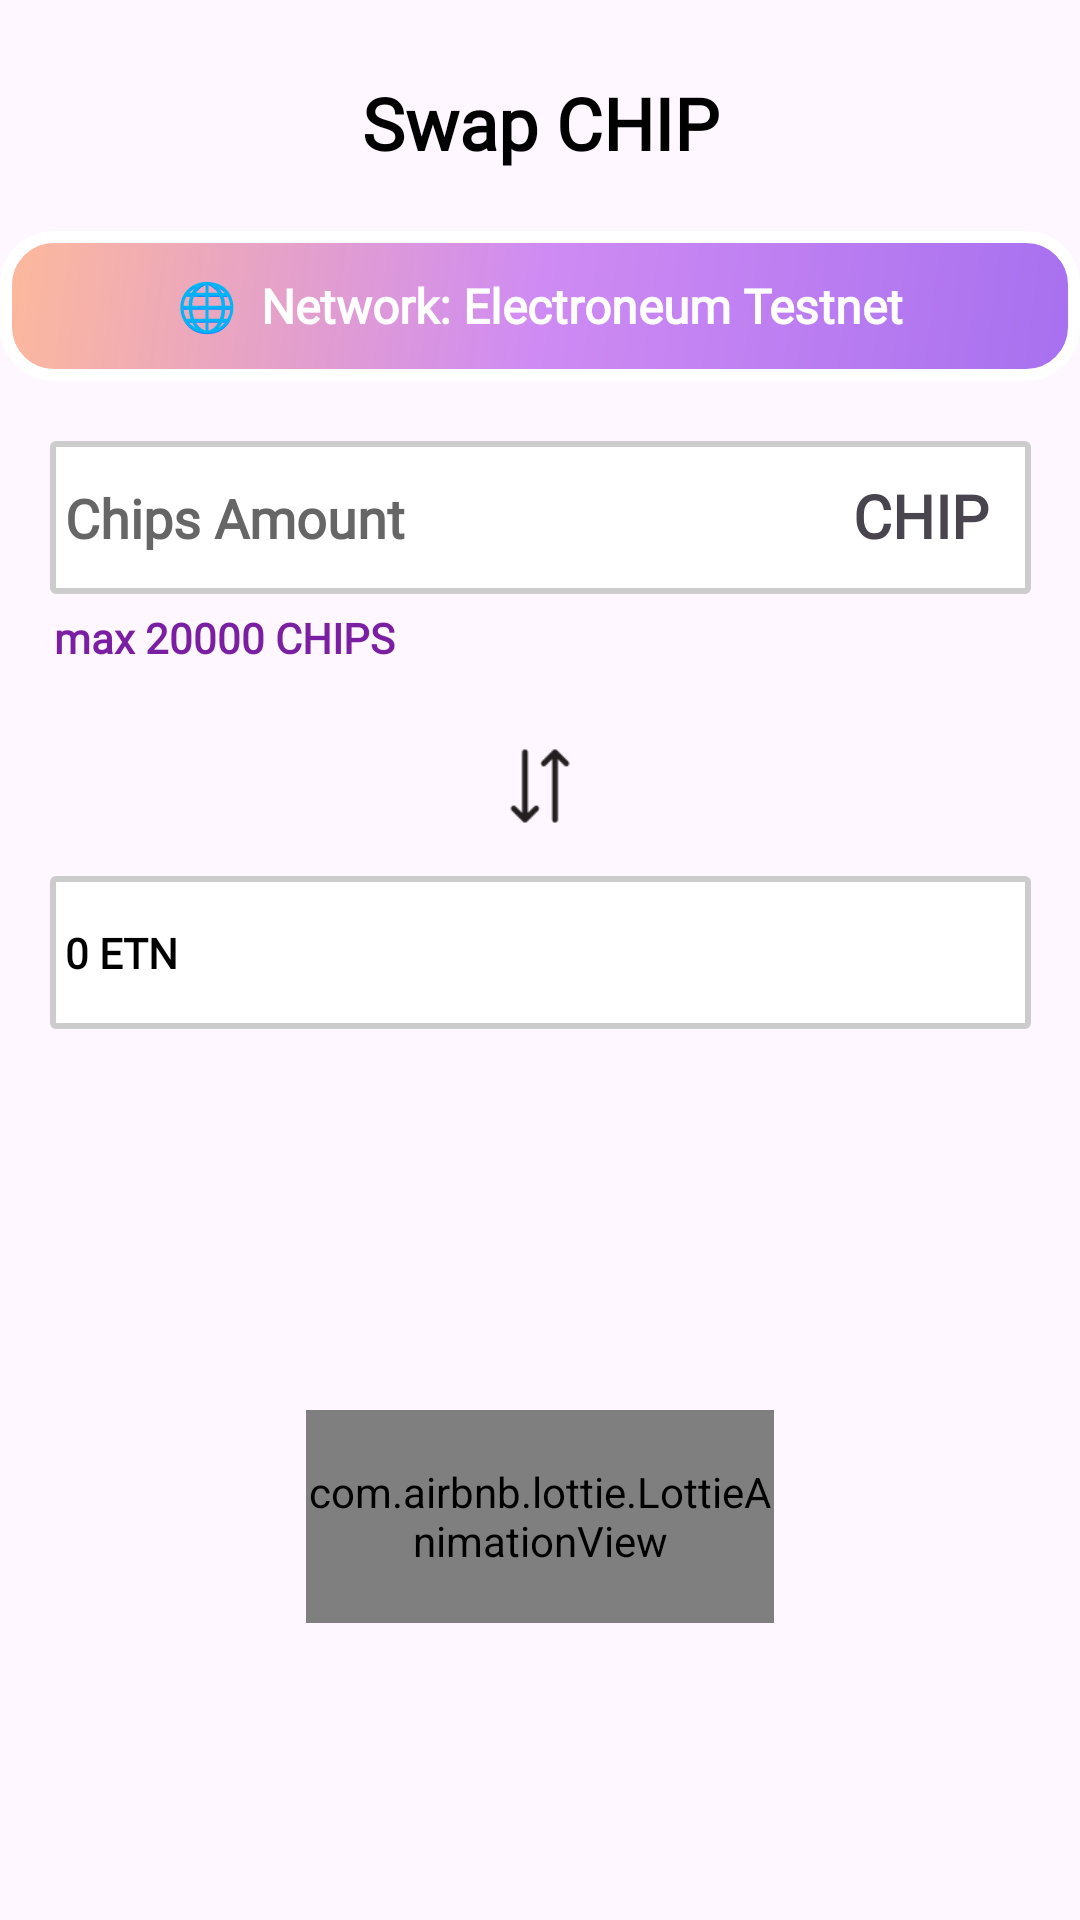

Icons on this 1080x1920 Android screen, each with its box as (x1, y1, x2, y2):
swap: (510, 749, 570, 823)
